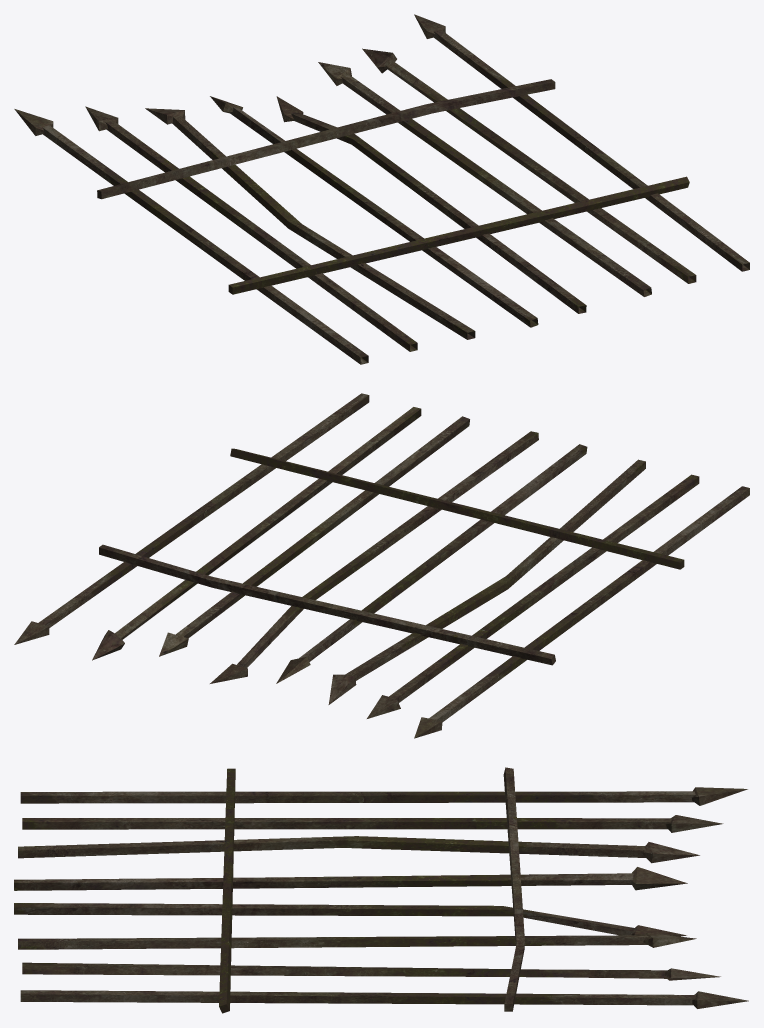
Rendered from TI_Fence_03.fbx.
3 renders of one model, top to bottom at view 1: azimuth 30°, elevation 25°; view 2: azimuth 150°, elevation 25°; view 3: azimuth 270°, elevation 25°, orthographic. The views are drawn at different scales.
Parts seen in each view (by area): view 1: TI_Fence_03; view 2: TI_Fence_03; view 3: TI_Fence_03.
Boxes of the visible parts, bbox=[...] form: TI_Fence_03: bbox=[14, 14, 749, 364]; TI_Fence_03: bbox=[14, 393, 749, 738]; TI_Fence_03: bbox=[14, 767, 748, 1013].
Size of the model in its own units: 2.68 by 0.206 by 3.52.
